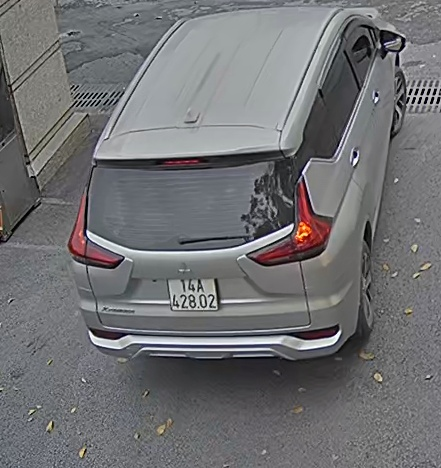vehicle plate: (163, 269, 224, 315)
